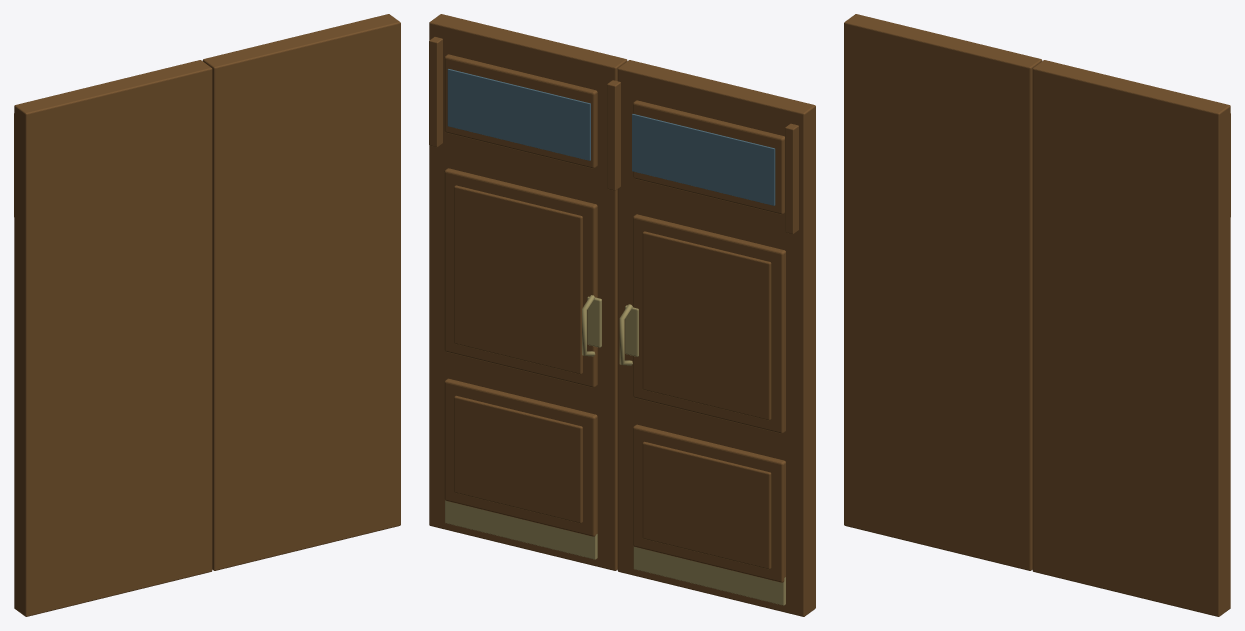
Rendered from paneled-entrance-door.glb.
3 renders of one model, left to right at view 1: azimuth 30°, elevation 25°; view 2: azimuth 150°, elevation 25°; view 3: azimuth 330°, elevation 25°, orthographic.
Parts seen in each view (by area): view 1: paneled-entrance-door; view 2: paneled-entrance-door; view 3: paneled-entrance-door.
Part boxes in pixels (box(x1,y1,x2,y2)): paneled-entrance-door: box(14, 14, 400, 616); paneled-entrance-door: box(429, 14, 815, 616); paneled-entrance-door: box(844, 14, 1230, 616).
Size of the model in its own units: 1.79 by 2.3 by 0.2187.
